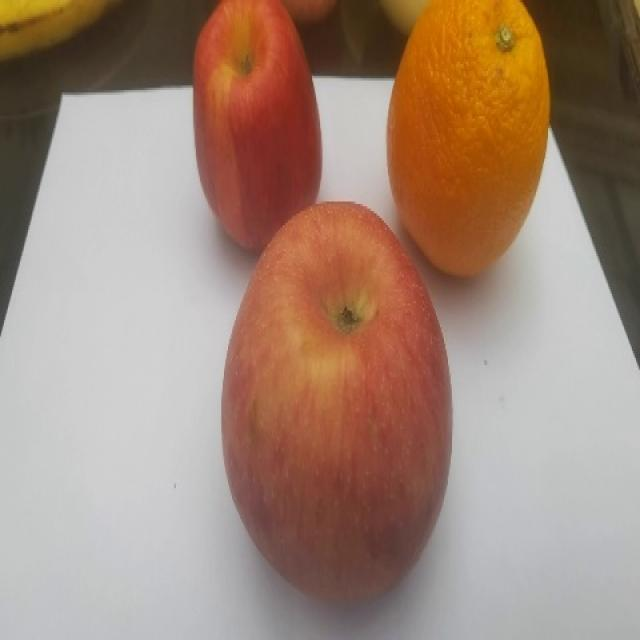Apple: (221, 198, 456, 600), (189, 0, 325, 254)
Orange: (388, 0, 554, 280)
